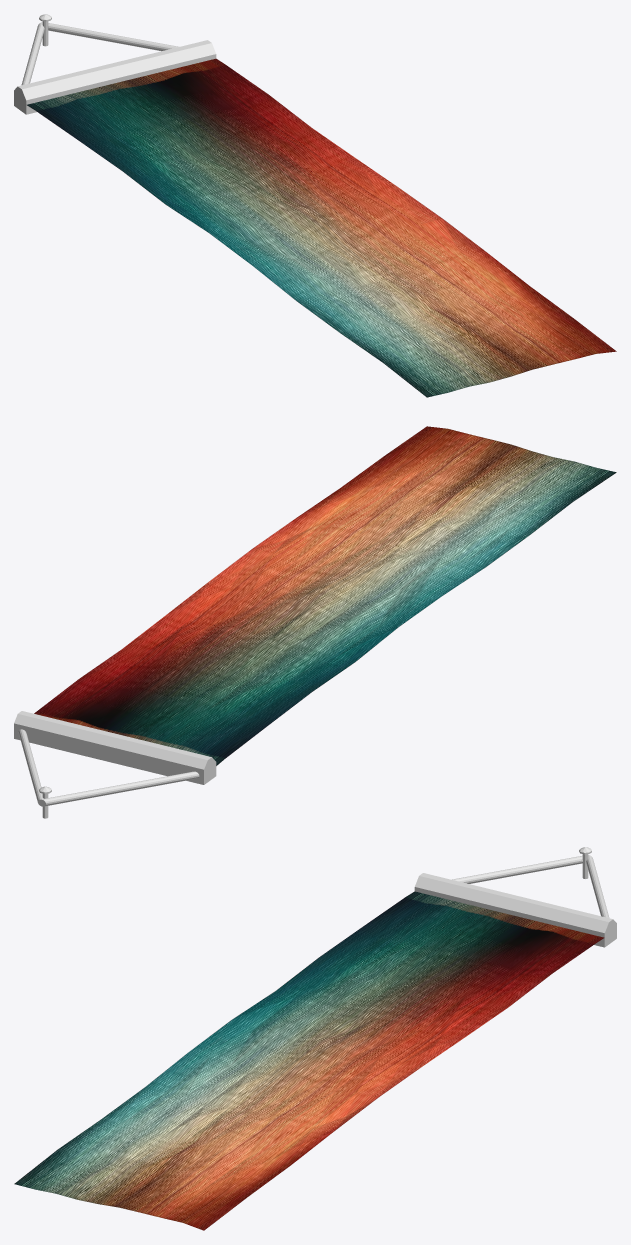
File: Banner.fbx
3 renders of one model, top to bottom at view 1: azimuth 30°, elevation 25°; view 2: azimuth 150°, elevation 25°; view 3: azimuth 330°, elevation 25°, orthographic.
Visible parts, largest first — view 1: Grid, Grid.001, Cylinder.001; view 2: Grid, Grid.001, Cylinder.001; view 3: Grid, Grid.001, Cylinder.001.
Boxes of the visible parts, bbox=[...] form: Grid: bbox=[27, 58, 616, 397]; Grid.001: bbox=[14, 40, 216, 114]; Cylinder.001: bbox=[21, 22, 179, 85]; Grid: bbox=[34, 426, 616, 765]; Grid.001: bbox=[14, 711, 216, 784]; Cylinder.001: bbox=[18, 729, 199, 806]; Grid: bbox=[14, 891, 604, 1230]; Grid.001: bbox=[414, 873, 616, 947]; Cylinder.001: bbox=[452, 855, 609, 917].
Size of the model in its own units: 200 by 31.36 by 875.
